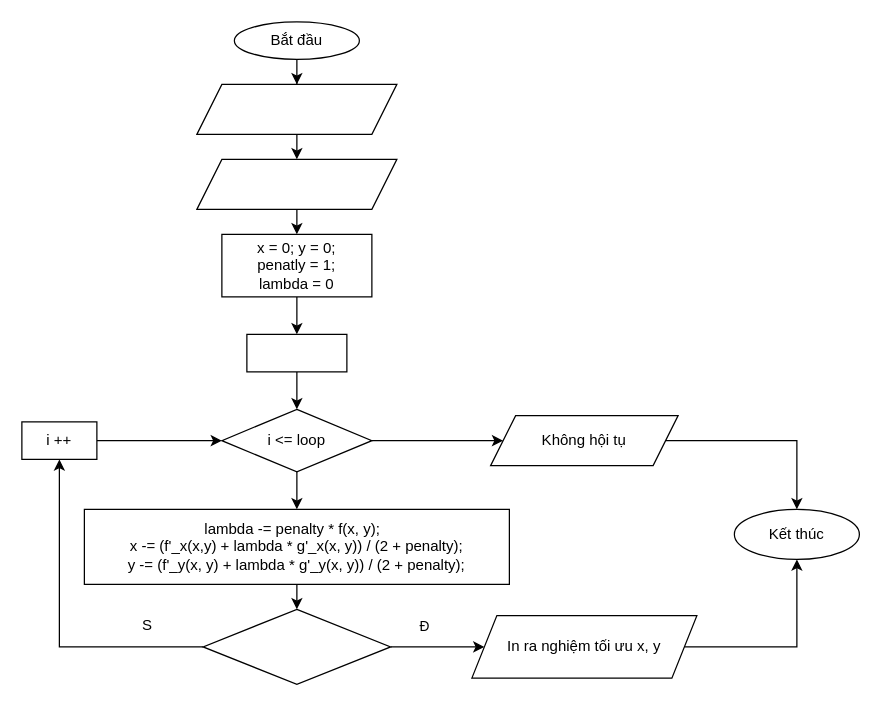
Some shapes in this 881 by 706 pixel diagram are drawn without their labels. The centre of each missing label's shape, as x and y in pixels:
"abs(f(x,y)) < gra" goes at point 296,646.
"i = 0" goes at point 296,352.
"Nhập f'_x, f'_y và g'_x, g'_y" goes at point 296,183.
"Nhập f(x,y) và g(x,y)" goes at point 296,108.
